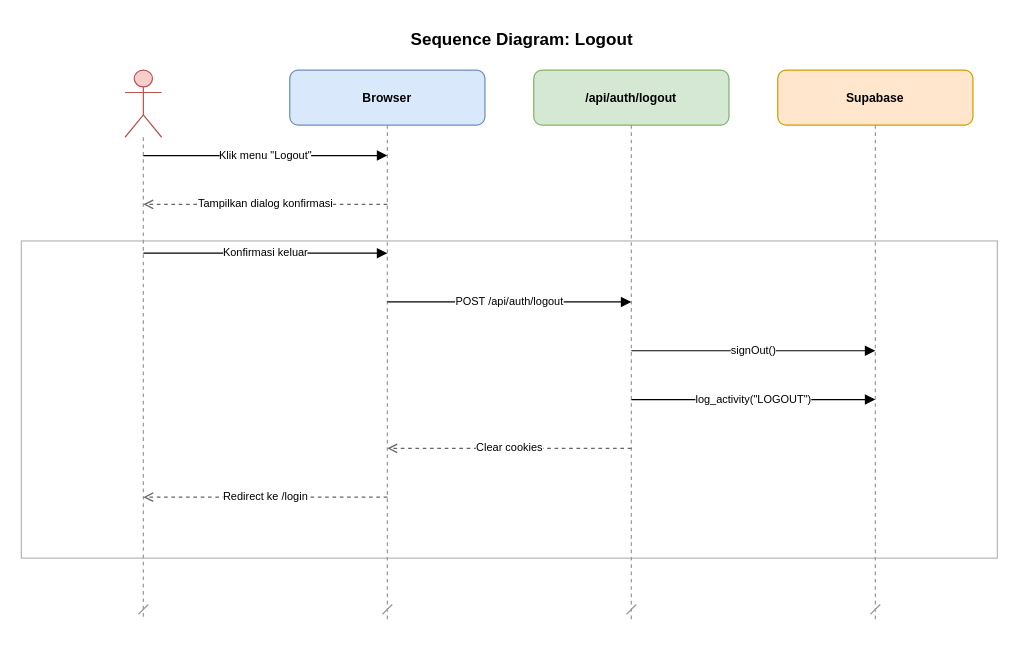
Some shapes in this 1019 by 650 pixel diagram are drawn without their labels. Here are the shapes that lost their labels. From the top down, the centre of each, then its label:
At (143,103): "Pengguna".
At (508,399): "opt: Pengguna konfirmasi".
